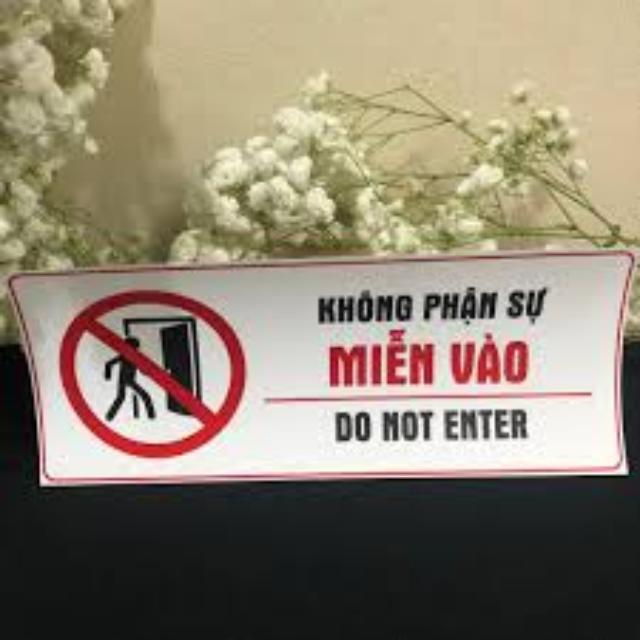khong phan su mien vao: (11, 250, 629, 484)
